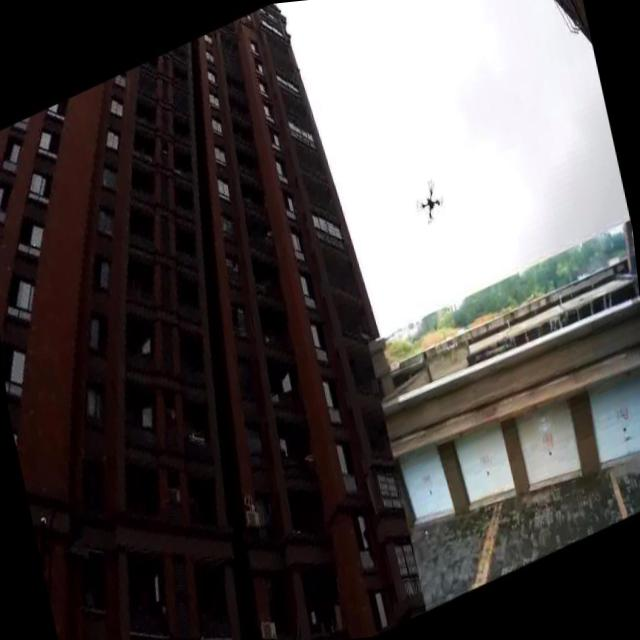drone: (409, 175, 447, 228)
